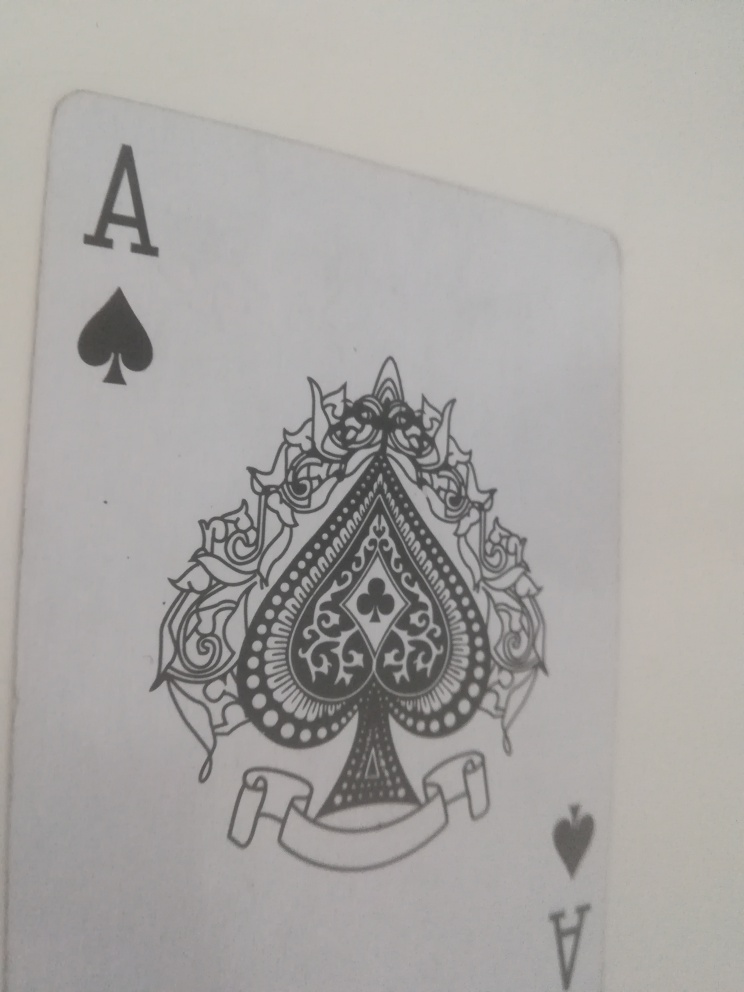AS: (67, 131, 186, 391)
